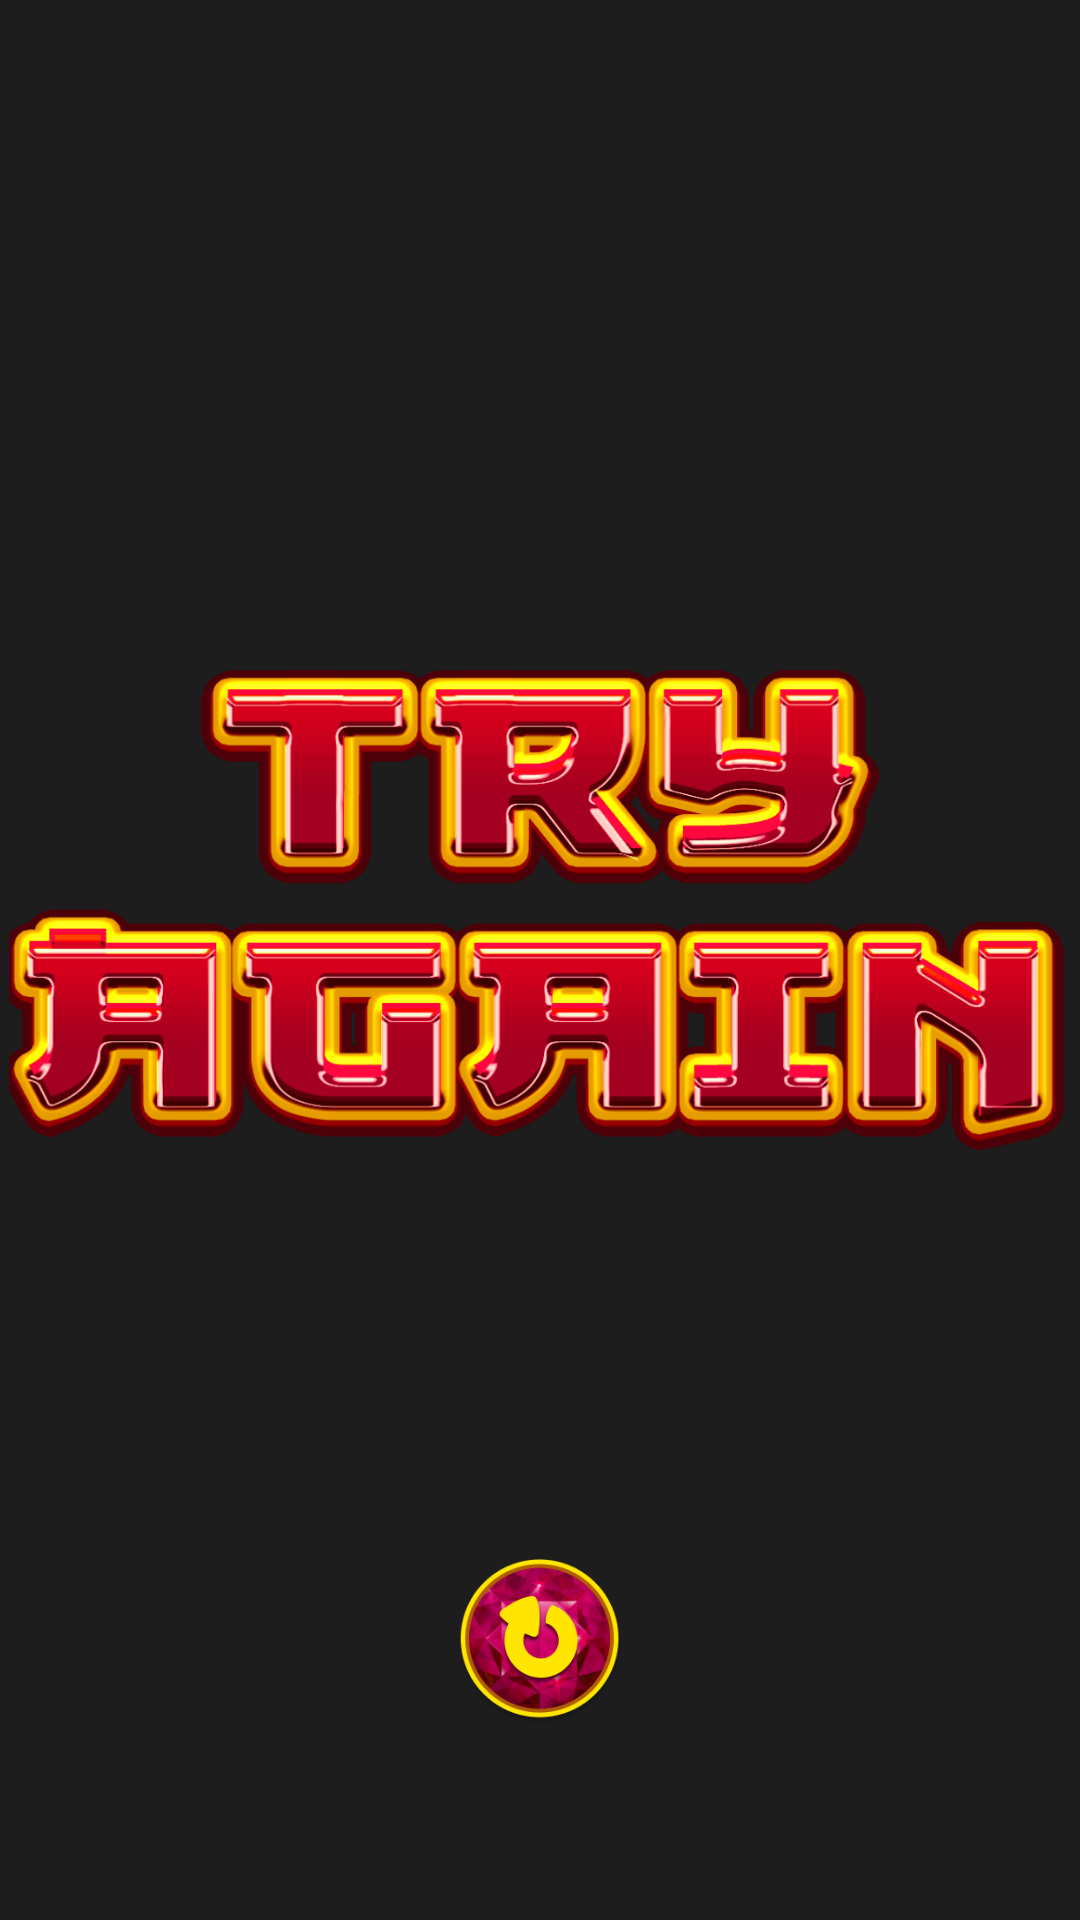

Locate icon controls on the screen. Image size 1080px×1920px, boxes as (x1, y1, x2, y2).
again: (460, 1559, 619, 1718)
